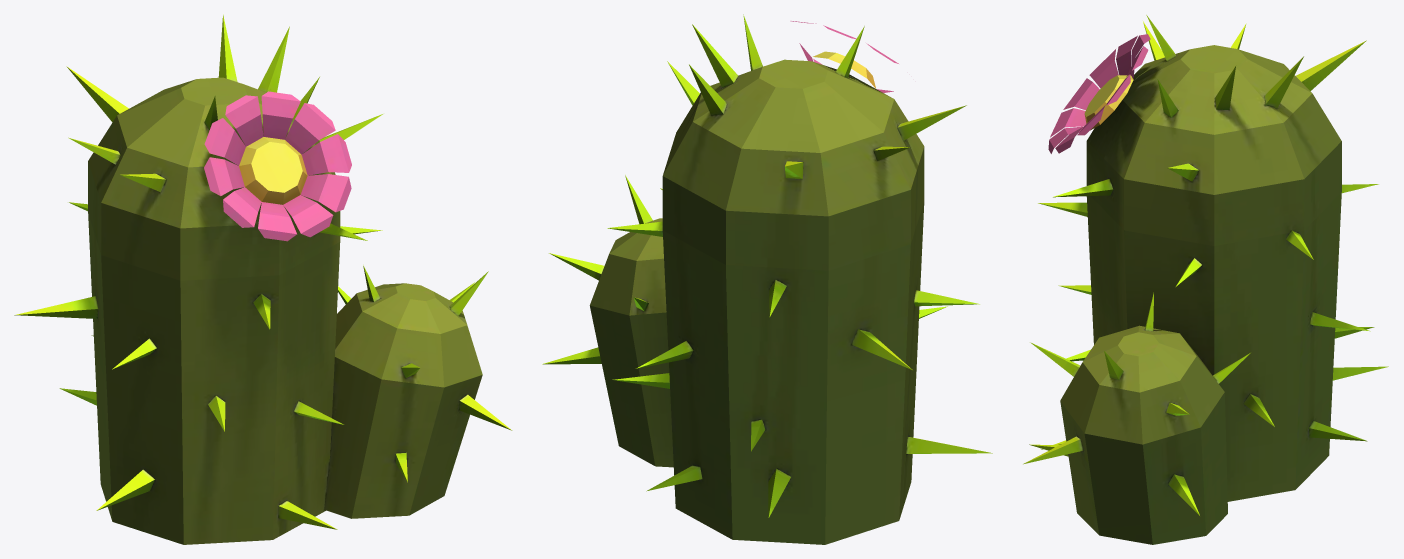
The model's file is Cactus.glb.
The picture shows the model from 3 angles, left to right: view 1: azimuth 30°, elevation 25°; view 2: azimuth 150°, elevation 25°; view 3: azimuth 270°, elevation 25°; orthographic projection. The views are drawn at different scales.
Visible parts, largest first — view 1: cactus; view 2: cactus; view 3: cactus.
Part boxes in pixels (left/top/right/bottom): cactus: left=14, top=14, right=512, bottom=544; cactus: left=542, top=14, right=992, bottom=544; cactus: left=1023, top=15, right=1388, bottom=544.
Bounding box in the file's own units: 1.55 × 1.6 × 1.24.
Materials: 1 (1 with a texture image).
